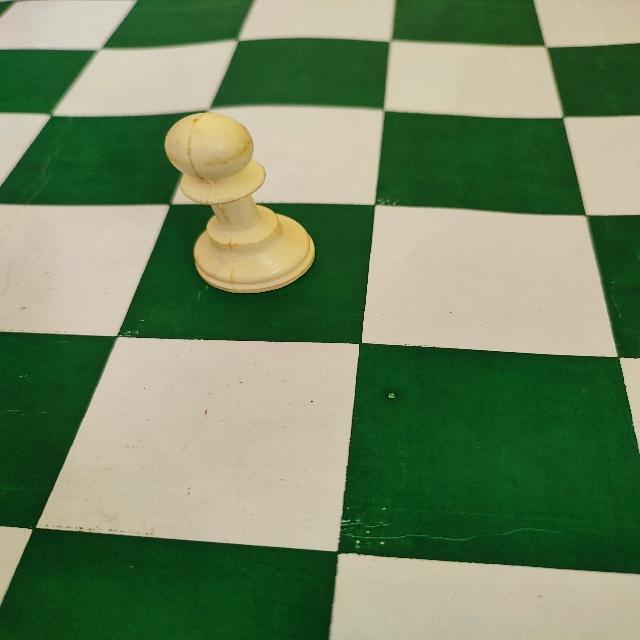Pawn: (162, 107, 318, 295)
